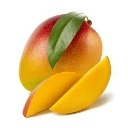mango: (18, 14, 103, 97)
